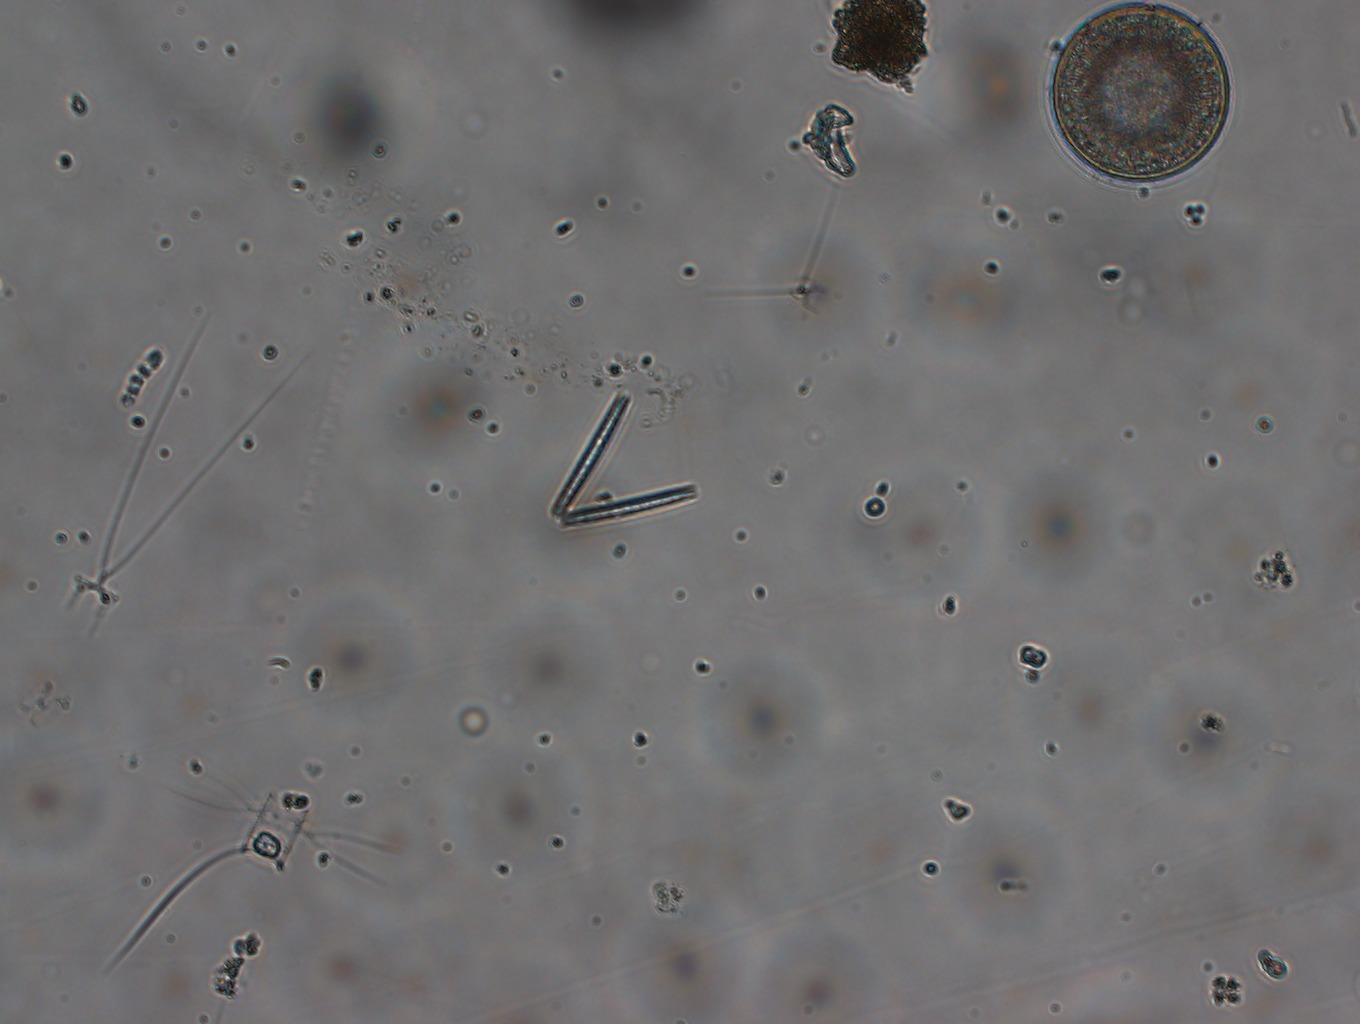chaetoceros: (57, 307, 256, 653), (121, 753, 417, 953)
coscinodiscus: (1036, 1, 1246, 188)
thalassionema frauenfeldii: (536, 392, 711, 528)
